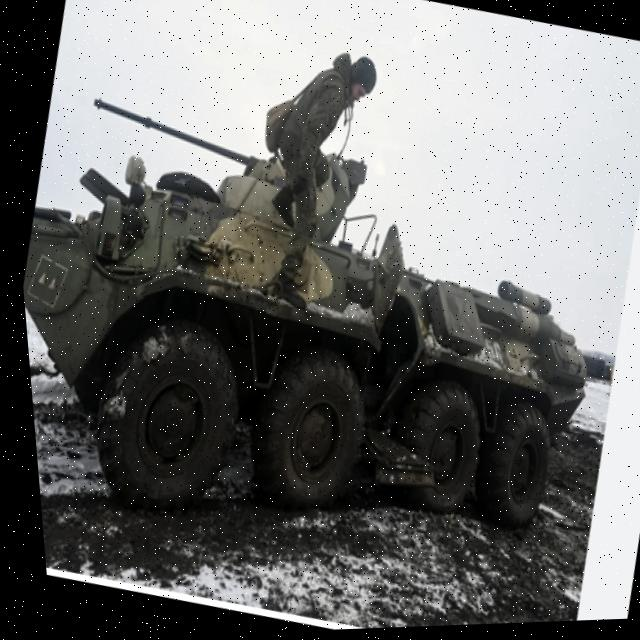MIL_APC: (7, 87, 639, 594)
